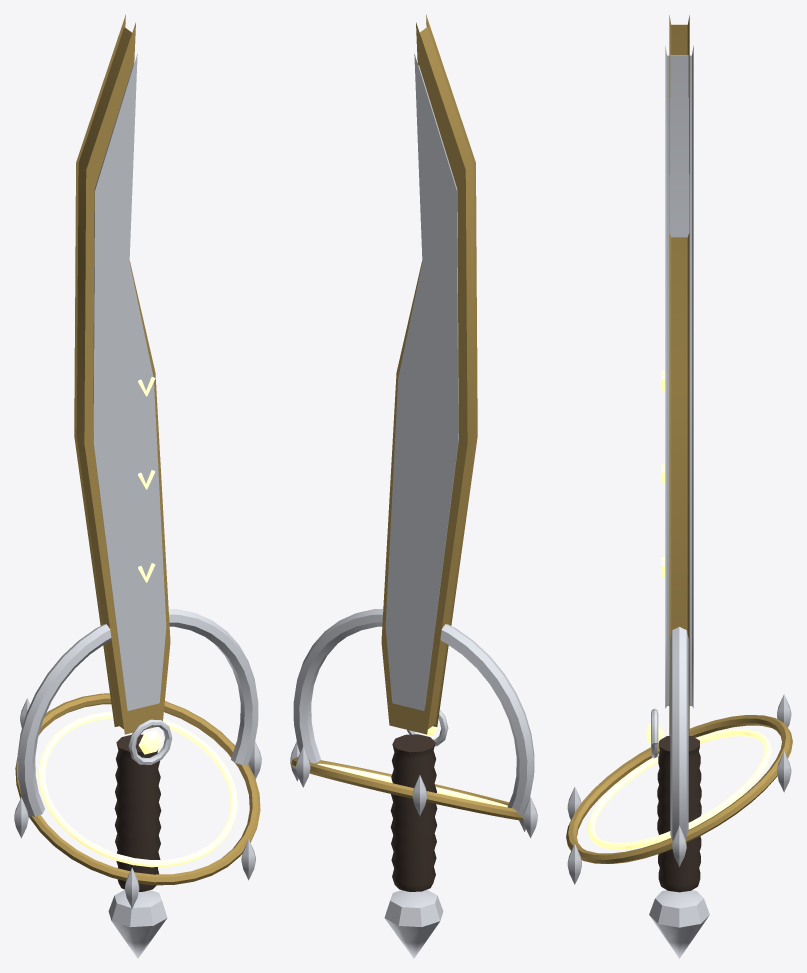
File: esc_w_shadowblade_sword_4.glb
3 renders of one model, left to right at view 1: azimuth 30°, elevation 25°; view 2: azimuth 150°, elevation 25°; view 3: azimuth 270°, elevation 25°, orthographic.
Parts seen in each view (by area): view 1: esc_w_shadowblade_sword_4; view 2: esc_w_shadowblade_sword_4; view 3: esc_w_shadowblade_sword_4.
Boxes of the visible parts, bbox=[...] form: esc_w_shadowblade_sword_4: bbox=[14, 14, 261, 958]; esc_w_shadowblade_sword_4: bbox=[290, 14, 537, 958]; esc_w_shadowblade_sword_4: bbox=[566, 15, 792, 958].
Size of the model in its own units: 0.3092 by 1.13 by 0.2457.
